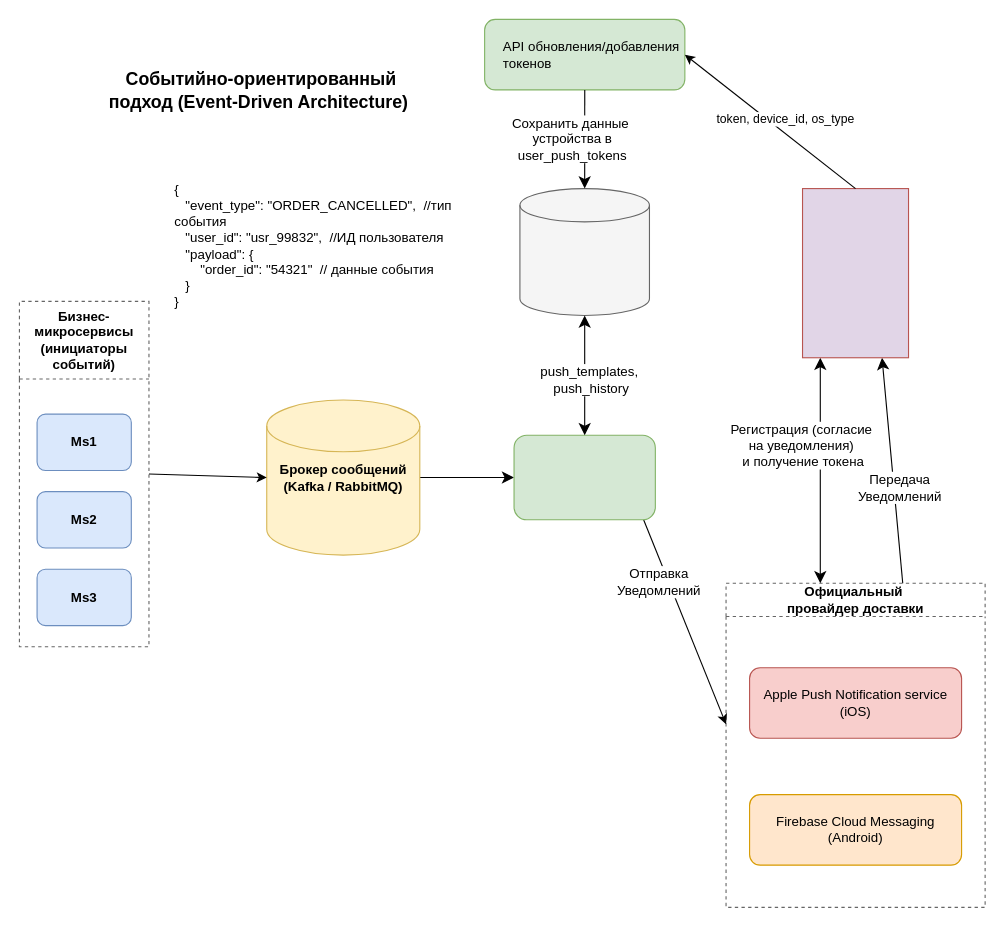
This 1005x927 diagram has some shape labels left out. Here are the shapes that lost their labels. From the top down, the centre of each, then its label:
At (x=584, y=251): "БД".
At (x=855, y=272): "МП (Мобильное приложение)".
At (x=584, y=477): "Push worker (s)".
